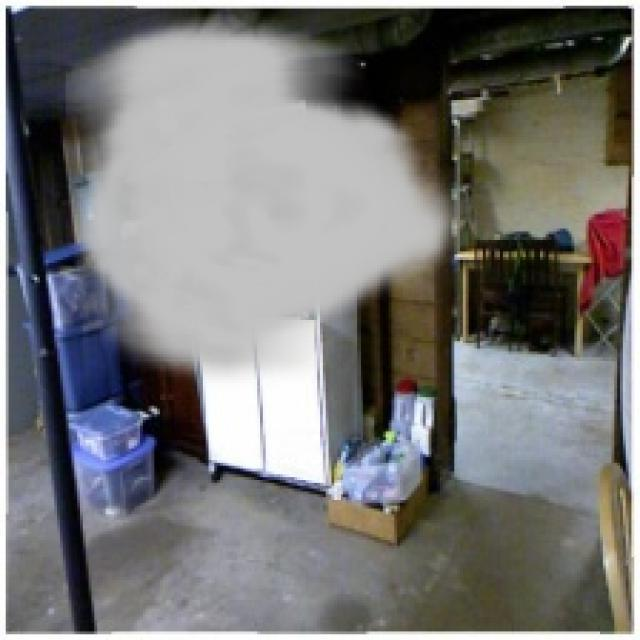Smoke: (66, 14, 466, 392)
